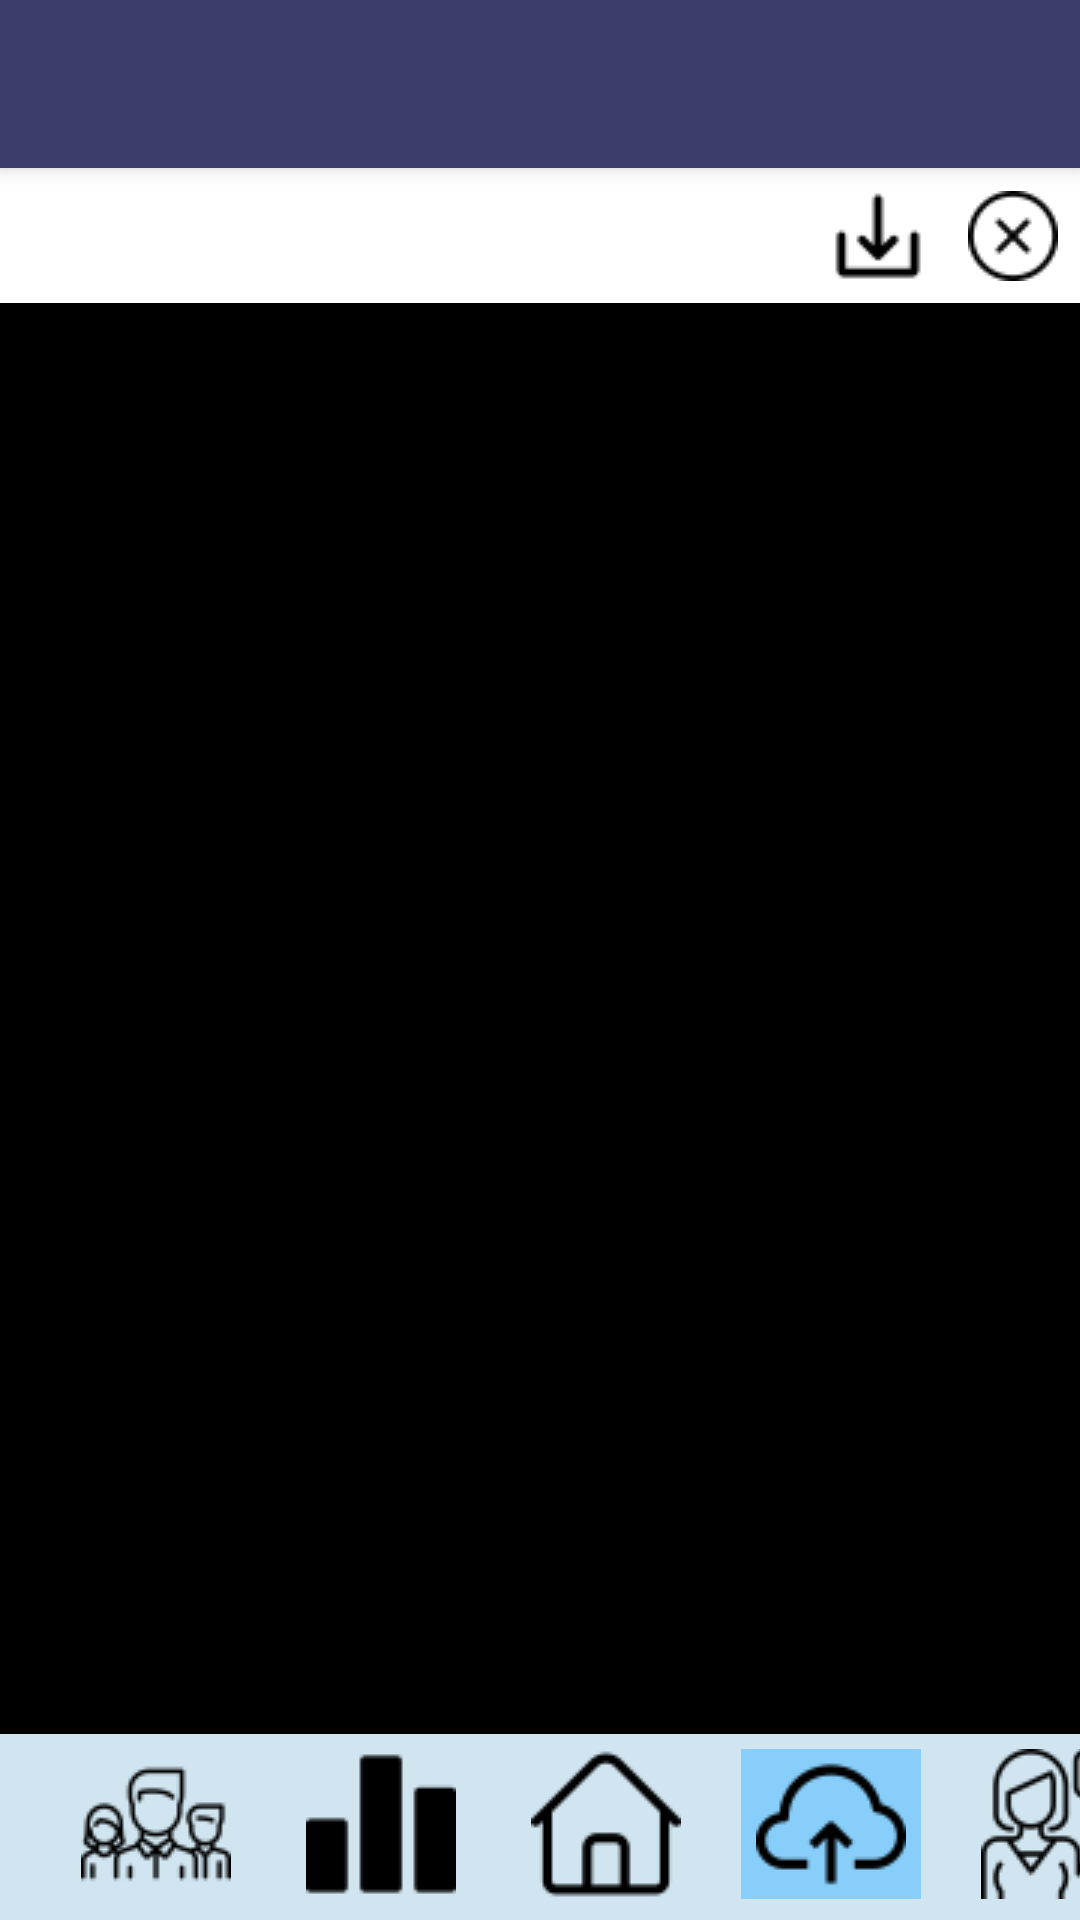

Where to tap for icons on this 1080*1920 app screen, as (x=x, y=y):
downloadz: (x=877, y=235)
housez: (x=606, y=1824)
removez: (x=1012, y=235)
statisticalz: (x=381, y=1824)
teamz: (x=156, y=1823)
uploadz: (x=831, y=1824)
